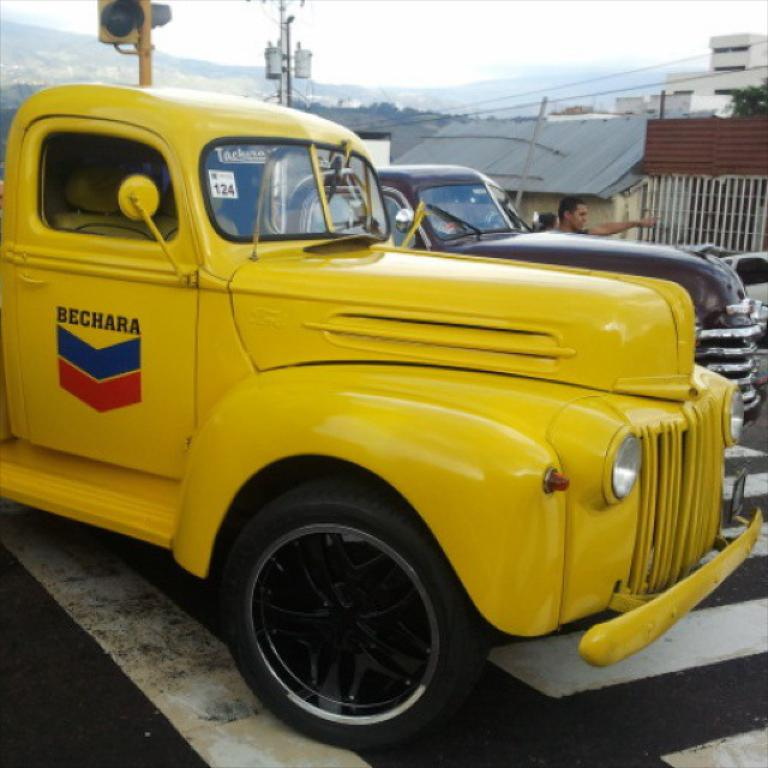person: (540, 193, 658, 236)
